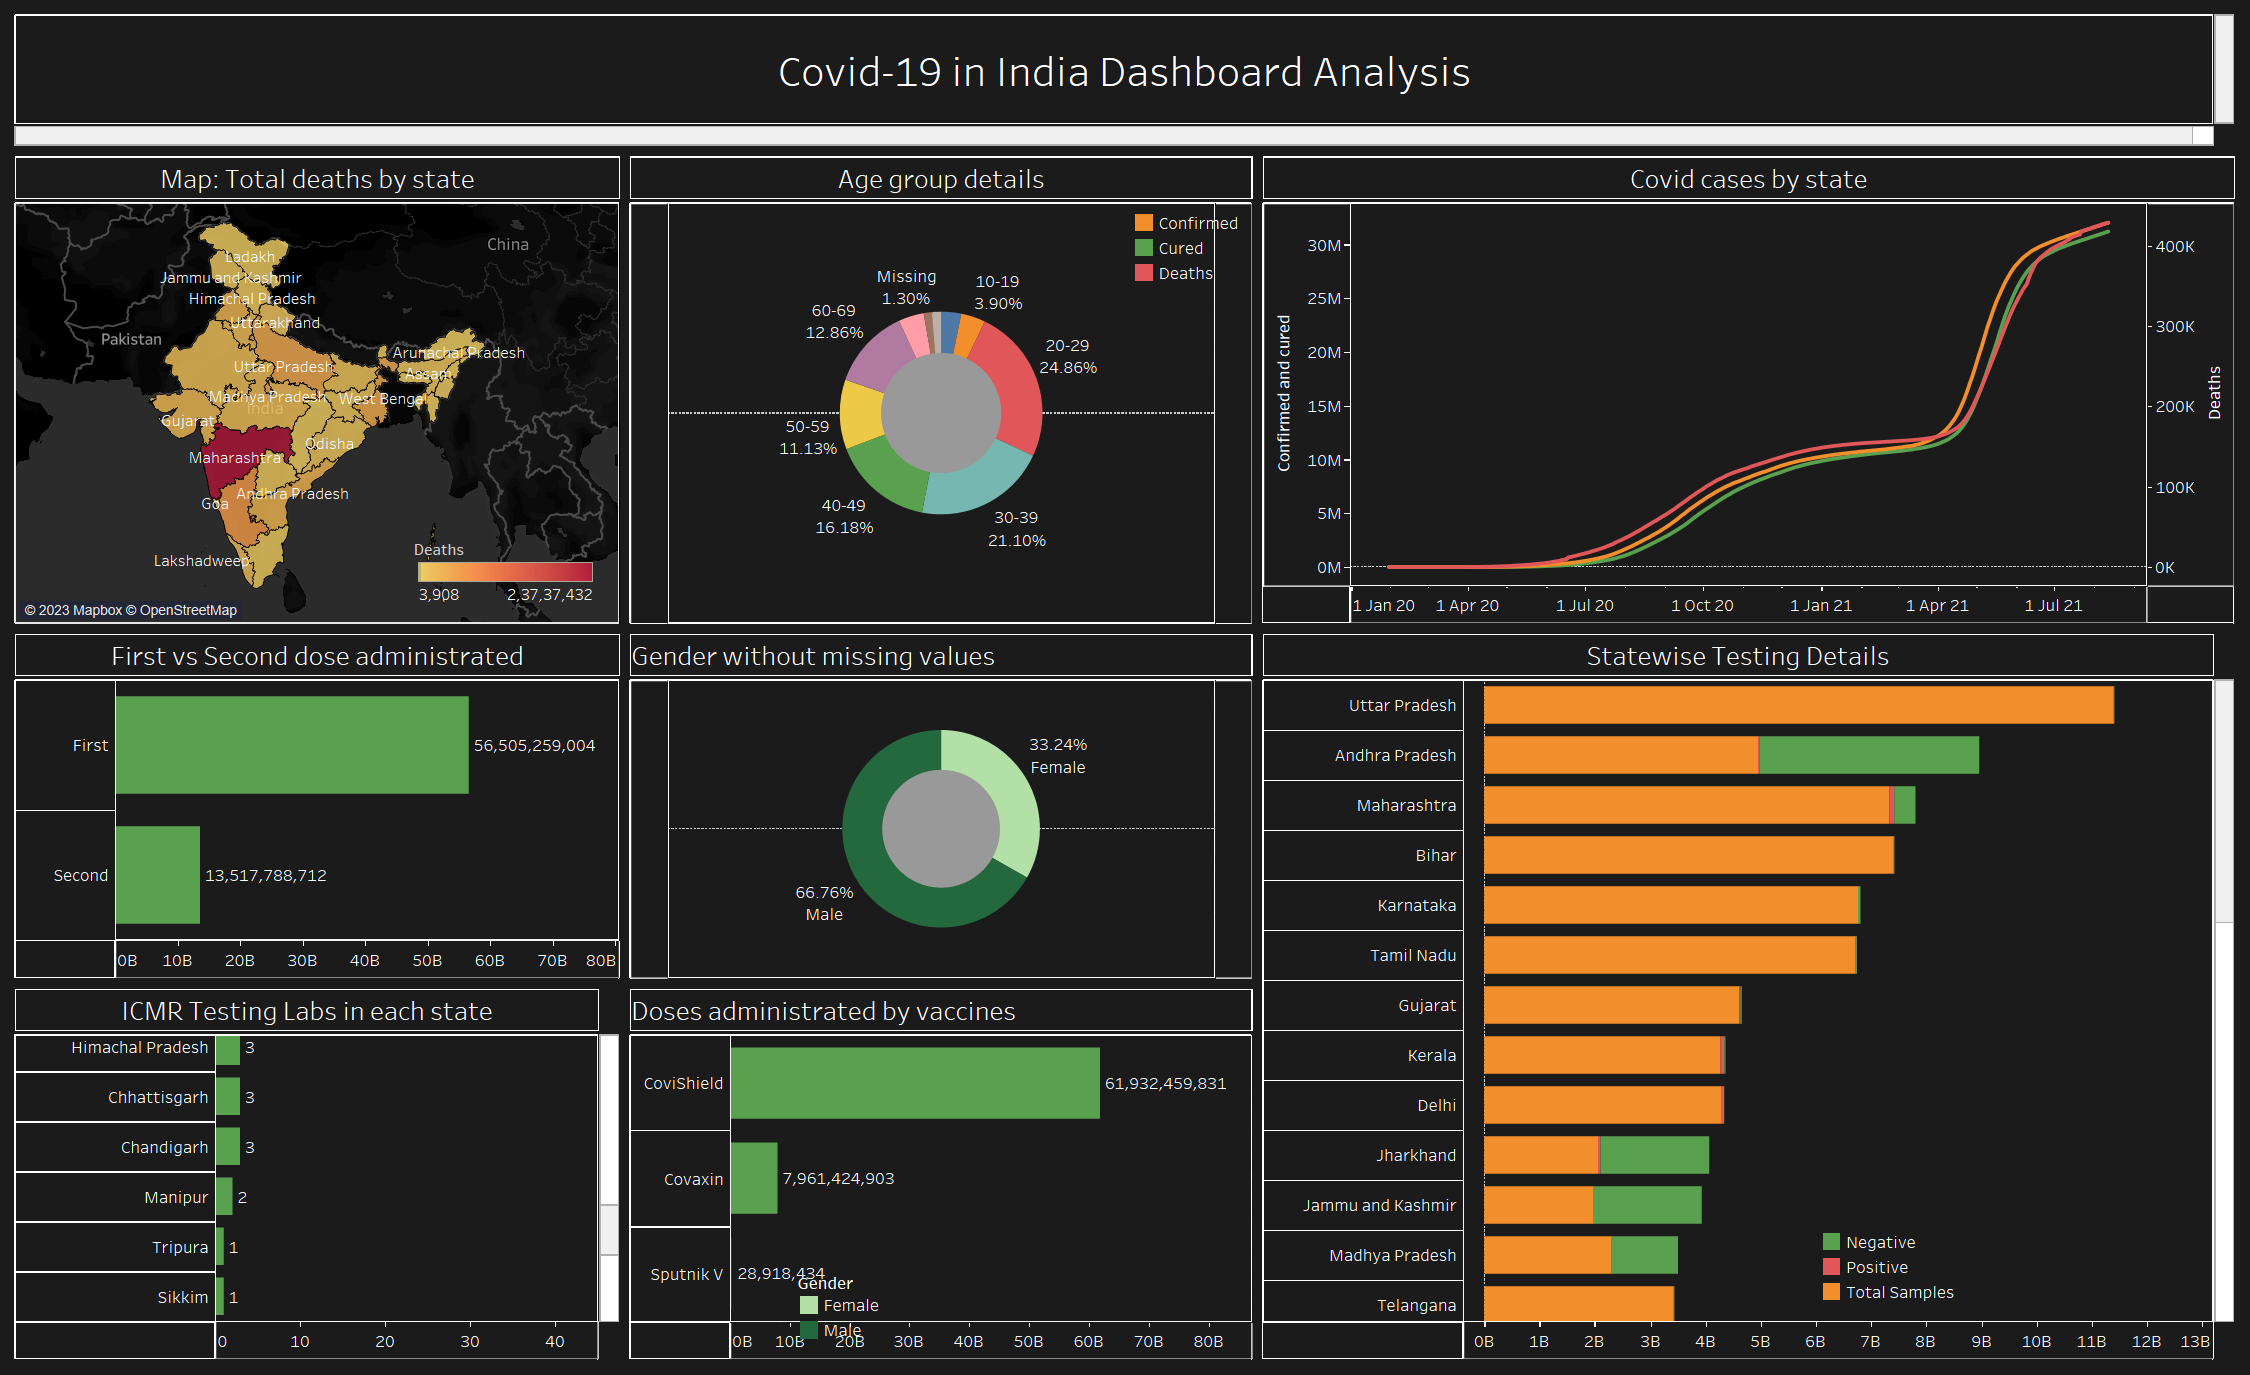

Layout of this report page (visuals, bound fields, positions):
{"tool":"tableau","page":{"name":"Dashboard 1","canvas":[1800,1100],"ordinal":0},"visuals":[{"type":"worksheet","title":"Title","mark":"Automatic","box":[8,8,1784,101]},{"type":"worksheet","title":"Map: Total deaths by state","mark":"Automatic","box":[8,109,492,386.7]},{"type":"worksheet","title":"Age group details","mark":"Pie","rows":["Calculation_2557763126652592129","Calculation_2557763126652592129"],"box":[500,109,506,386.7]},{"type":"worksheet","title":"Covid cases by state","mark":"Automatic","rows":["Deaths"],"cols":["Date"],"box":[1006,109,786,386.7]},{"type":"legend","title":"Covid cases by state","param":"[federated.1ufx5ec0w36w4j10jznnt1fgc1wt].[:Measure Names]","box":[905,168,140,60]},{"type":"legend","title":"Map: Total deaths by state","param":"[federated.1ufx5ec0w36w4j10jznnt1fgc1wt].[sum:Deaths:qk]","box":[331,427,148,62]},{"type":"worksheet","title":"First vs Second dose administrated","mark":"Automatic","box":[8,495.7,492,288]},{"type":"worksheet","title":"Gender without missing values","mark":"Pie","rows":["Calculation_2557763126654754819","Calculation_2557763126654754819"],"box":[500,495.7,506,287.5]},{"type":"worksheet","title":"Statewise Testing Details","mark":"Automatic","rows":["State"],"box":[1006,495.7,786,596.3]},{"type":"worksheet","title":"Doses administrated by vaccines","mark":"Automatic","box":[500,783.2,506,308.8]},{"type":"worksheet","title":"ICMR Testing Labs in each state","mark":"Automatic","rows":["state"],"cols":["lab"],"box":[8,783.7,492,308.3]},{"type":"legend","title":"Statewise Testing Details","param":"[federated.0eeyi8o13ijli71cmfjey033fxpy].[:Measure Names]","box":[1455,983,140,60]},{"type":"legend","title":"Gender without missing values","param":"[federated.0j3hc6s1885q2k11j5jds1nwp9yg].[none:gender:nk]","box":[637,1015,140,59]}]}

Visuals, with their boxes in screenshot pixels (x1, y1, x2, y2), scaled from the page's 1800x1100 canvas onto the 2250x1375 screenshot:
"Title" worksheet: [left=10, top=10, right=2240, bottom=136]
"Map: Total deaths by state" worksheet: [left=10, top=136, right=625, bottom=620]
"Age group details" worksheet (Pie marks): [left=625, top=136, right=1258, bottom=620]
"Covid cases by state" worksheet: [left=1258, top=136, right=2240, bottom=620]
"Covid cases by state" legend: [left=1131, top=210, right=1306, bottom=285]
"Map: Total deaths by state" legend: [left=414, top=534, right=599, bottom=611]
"First vs Second dose administrated" worksheet: [left=10, top=620, right=625, bottom=980]
"Gender without missing values" worksheet (Pie marks): [left=625, top=620, right=1258, bottom=979]
"Statewise Testing Details" worksheet: [left=1258, top=620, right=2240, bottom=1365]
"Doses administrated by vaccines" worksheet: [left=625, top=979, right=1258, bottom=1365]
"ICMR Testing Labs in each state" worksheet: [left=10, top=980, right=625, bottom=1365]
"Statewise Testing Details" legend: [left=1819, top=1229, right=1994, bottom=1304]
"Gender without missing values" legend: [left=796, top=1269, right=971, bottom=1342]
